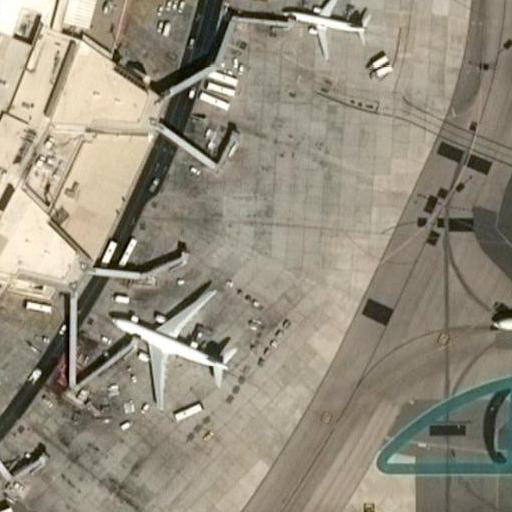Aircraft: (108, 288, 243, 405), (282, 0, 363, 48), (486, 250, 512, 389), (0, 503, 58, 512)
